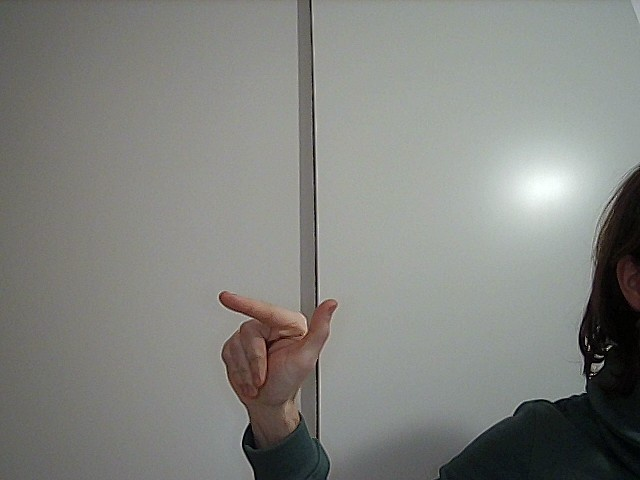t: (182, 255, 362, 407)
